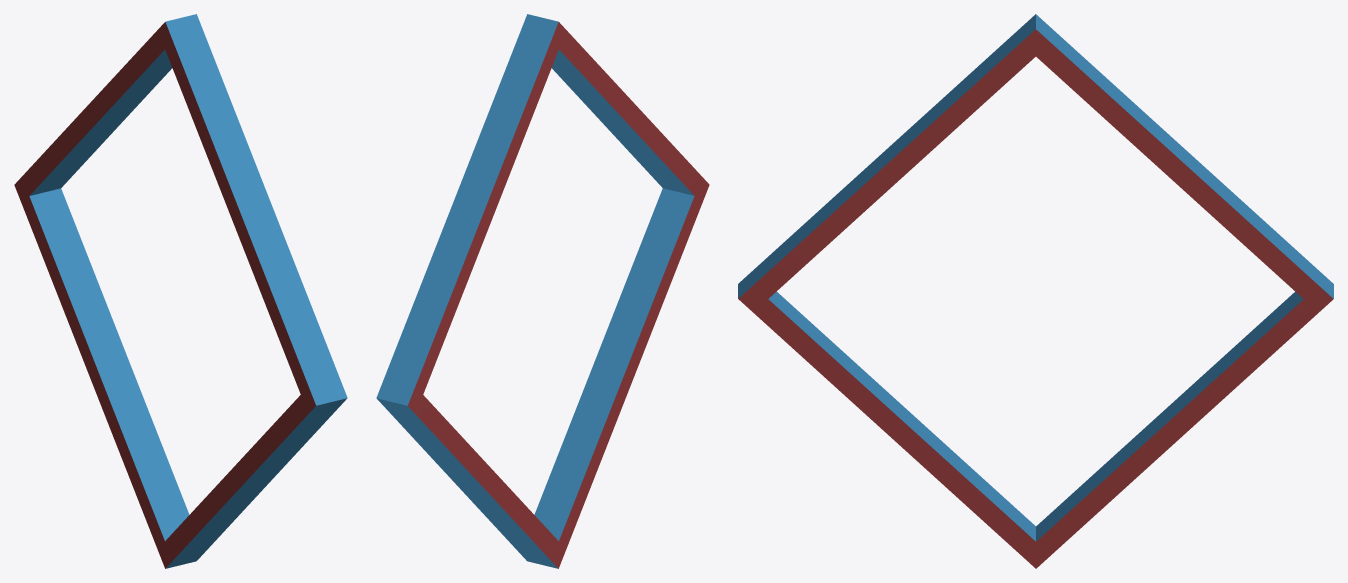
Rendered from GeoSquare.fbx.
3 views of the same model, side by side, from view 1: azimuth 30°, elevation 25°; view 2: azimuth 150°, elevation 25°; view 3: azimuth 270°, elevation 25° (orthographic).
Parts seen in each view (by area): view 1: pCube13; view 2: pCube13; view 3: pCube13.
Part boxes in pixels (x1,y1,x2,y2): pCube13: (14,14,347,568); pCube13: (376,14,709,568); pCube13: (738,14,1333,568).
Size of the model in its own units: 0.0739 by 1.21 by 1.21.
